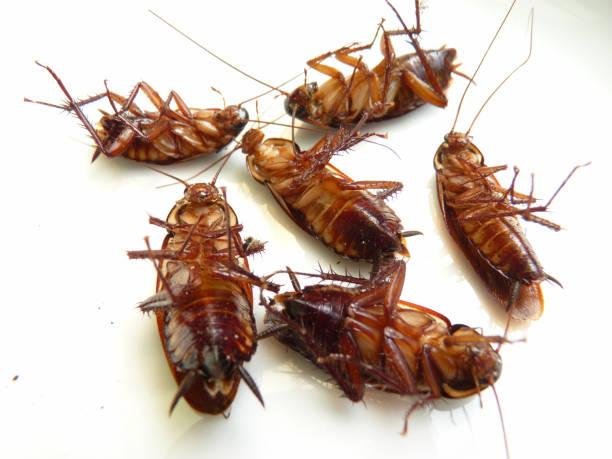cockroach: (235, 239, 578, 459), (425, 26, 612, 322), (176, 86, 444, 275), (129, 163, 279, 438), (175, 18, 470, 139), (18, 49, 296, 165)
